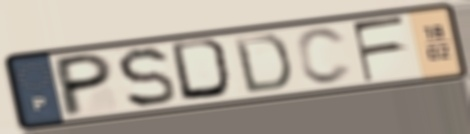C: (293, 25, 357, 87)
D: (167, 36, 239, 103), (230, 32, 294, 96)
F: (349, 13, 409, 85)
P: (55, 51, 115, 120)
S: (113, 45, 179, 111)
